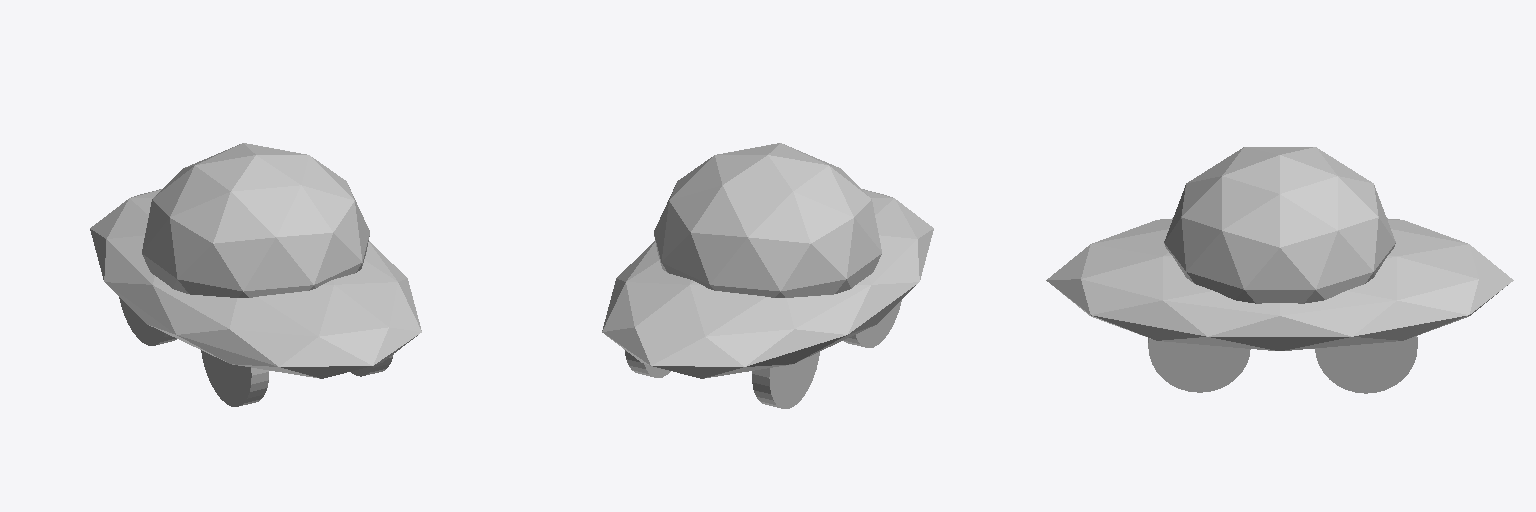
The model's file is car.obj.
The picture shows the model from 3 angles: view 1: azimuth 30°, elevation 25°; view 2: azimuth 150°, elevation 25°; view 3: azimuth 270°, elevation 25°; orthographic projection.
Parts seen in each view (by area): view 1: Icosphere, Icosphere.001, Cylinder, Cylinder.002; view 2: Icosphere, Icosphere.001, Cylinder.002, Cylinder; view 3: Icosphere.001, Icosphere, Cylinder.003, Cylinder.001.
Boxes of the visible parts, box(x1,y1,x2,y2) form: Icosphere: box(142, 143, 369, 297); Icosphere.001: box(90, 189, 421, 378); Cylinder: box(201, 350, 268, 406); Cylinder.002: box(119, 297, 176, 345); Icosphere: box(654, 143, 881, 297); Icosphere.001: box(602, 189, 933, 378); Cylinder.002: box(752, 352, 819, 408); Cylinder: box(843, 300, 901, 347); Icosphere.001: box(1046, 218, 1513, 350); Icosphere: box(1164, 147, 1395, 303); Cylinder.003: box(1315, 336, 1417, 393); Cylinder.001: box(1148, 338, 1250, 392).
Size of the model in its own units: 2.53 by 2.12 by 4.44.